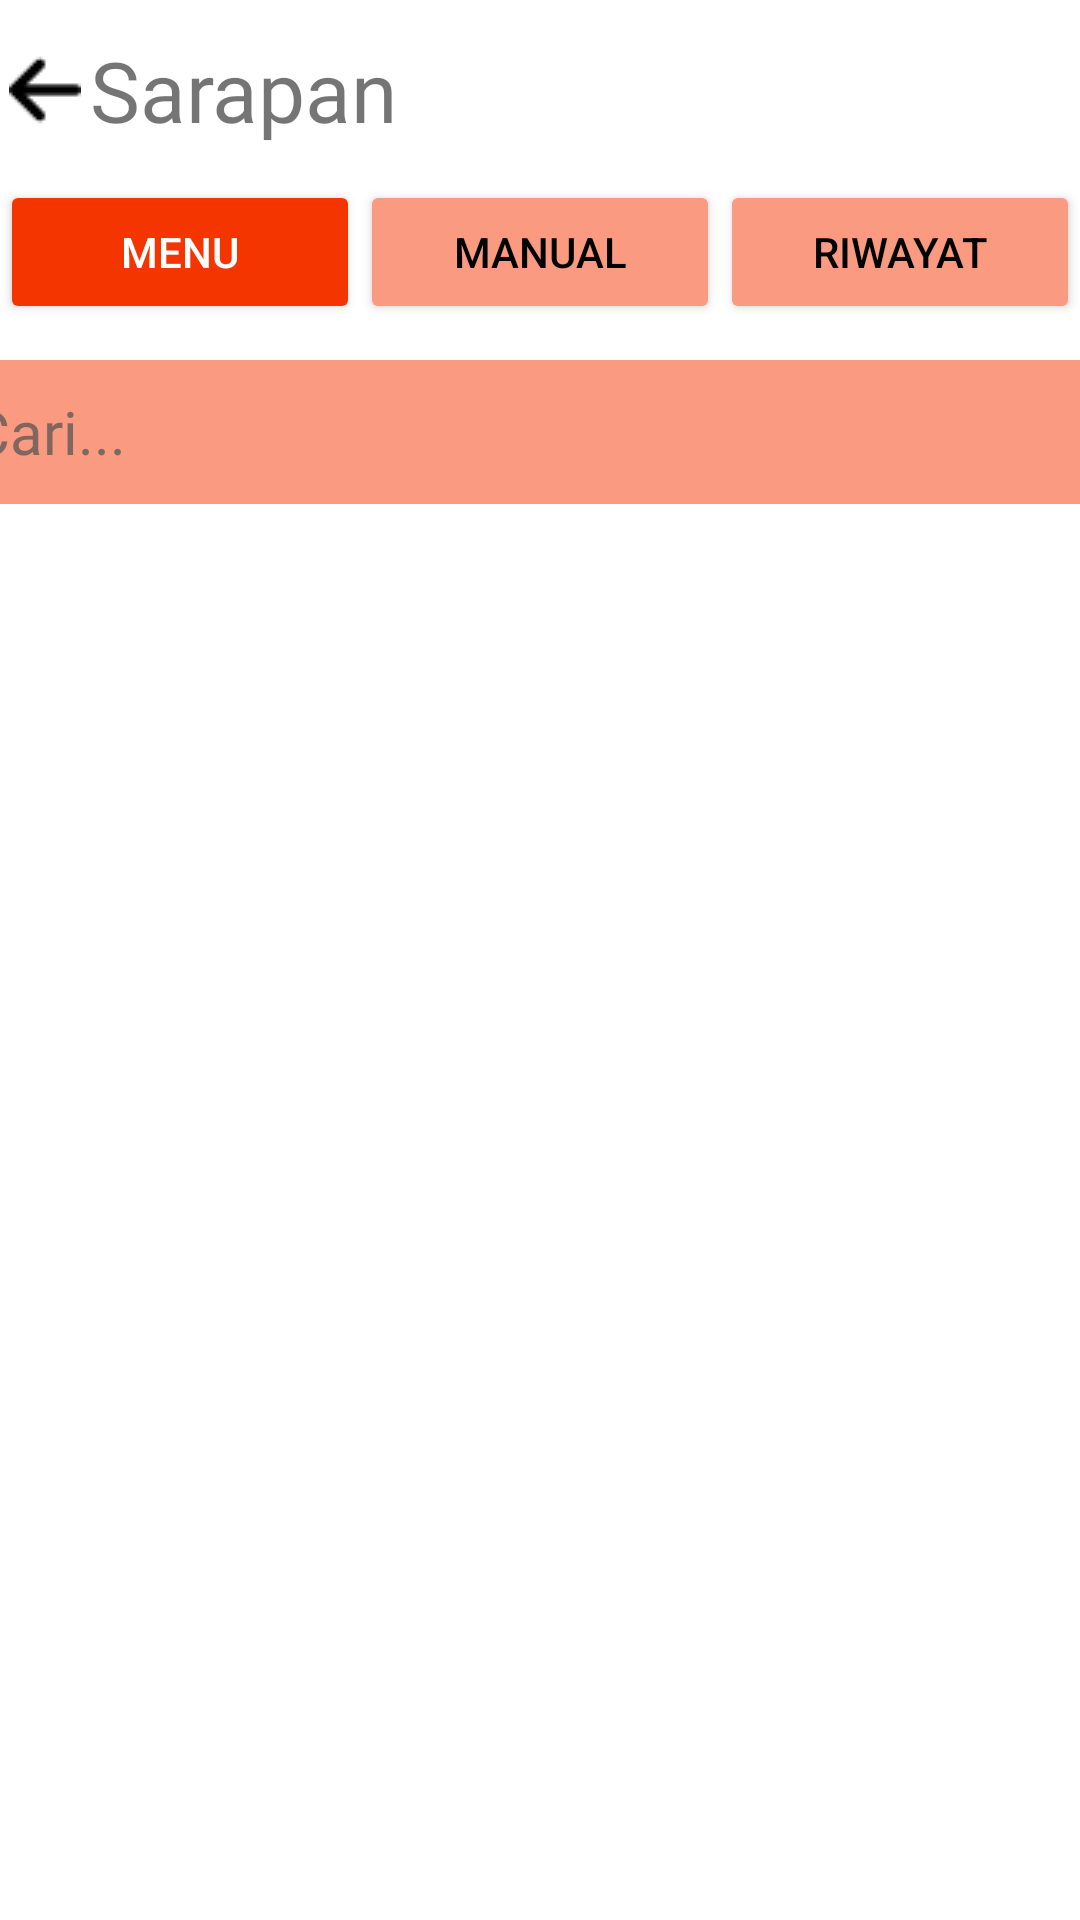

Screen size 1080px x 1920px. Icon name, then its box in pixels as (x1, y1, x2, y2):
kembali: (9, 57, 81, 123)
